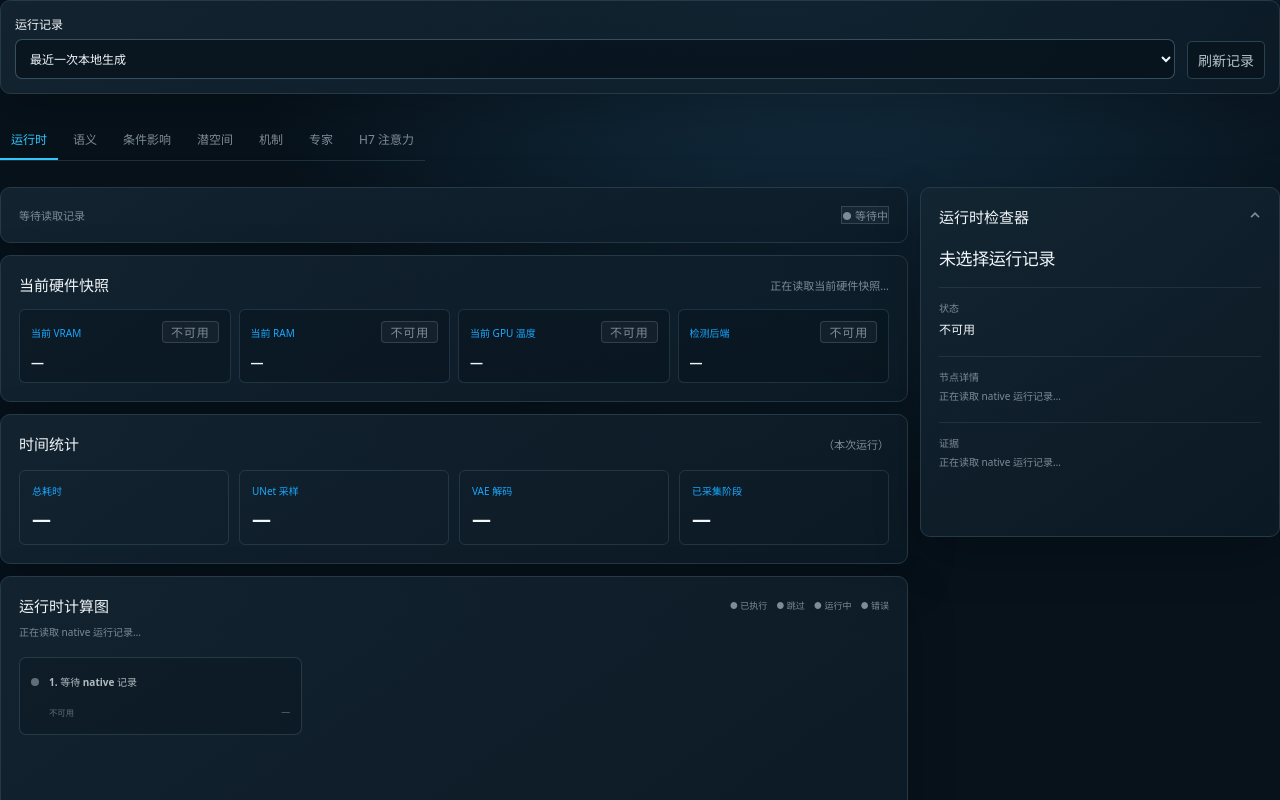
Scenario: measured research panels › clears self maps on run change and ignores a late response from the previous run
Click the tab "H7 注意力" at x=387, y=140, box left=348, top=120, right=425, bottom=160
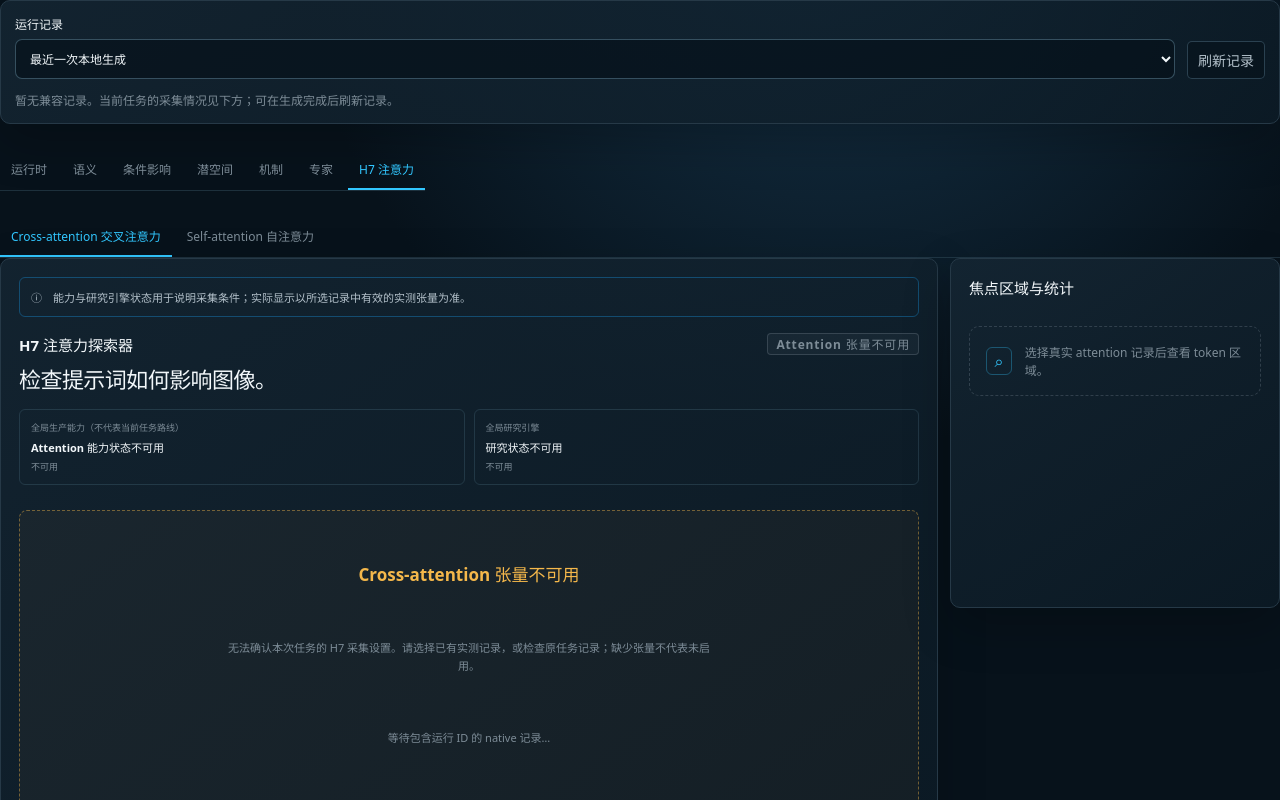
Click the tab "Self-attention 自注意力" at x=250, y=237, box left=176, top=217, right=325, bottom=257
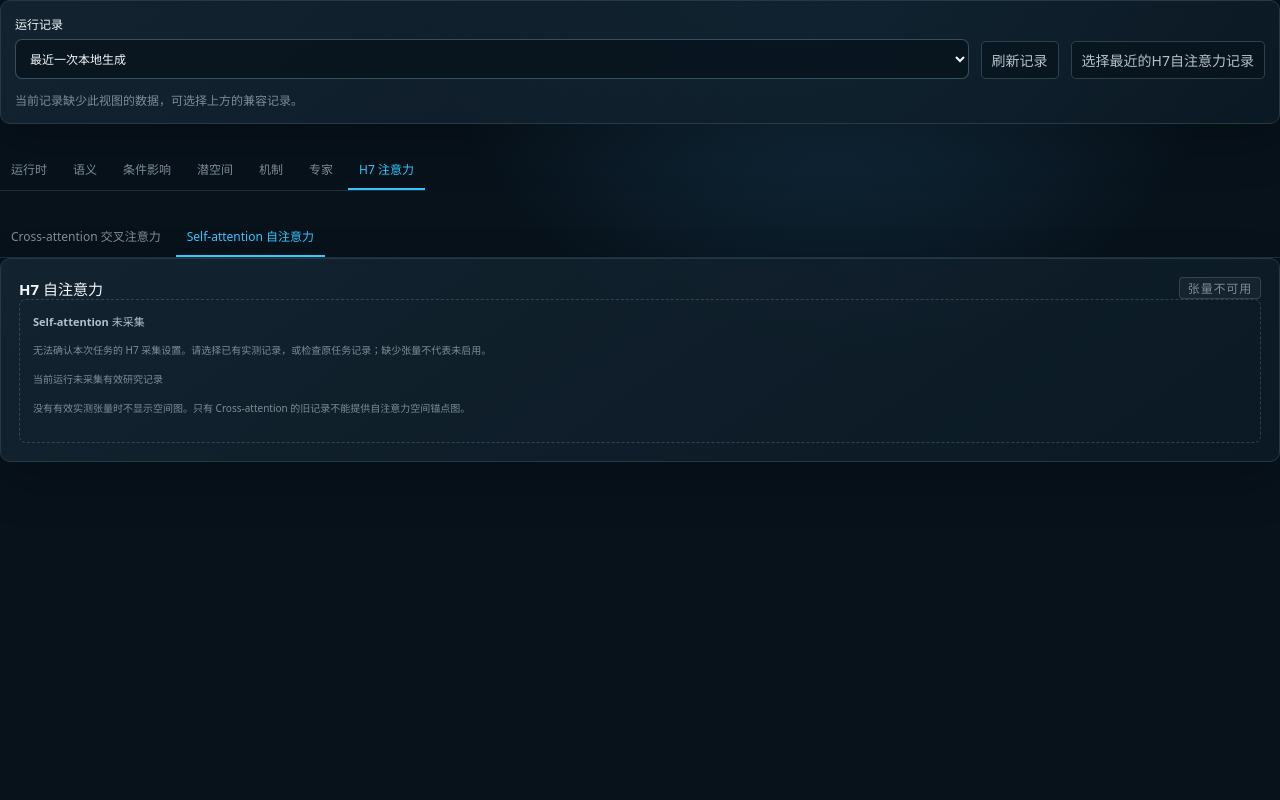
Click the button "选择最近的H7自注意力记录" at x=1168, y=60, box left=1071, top=41, right=1265, bottom=79
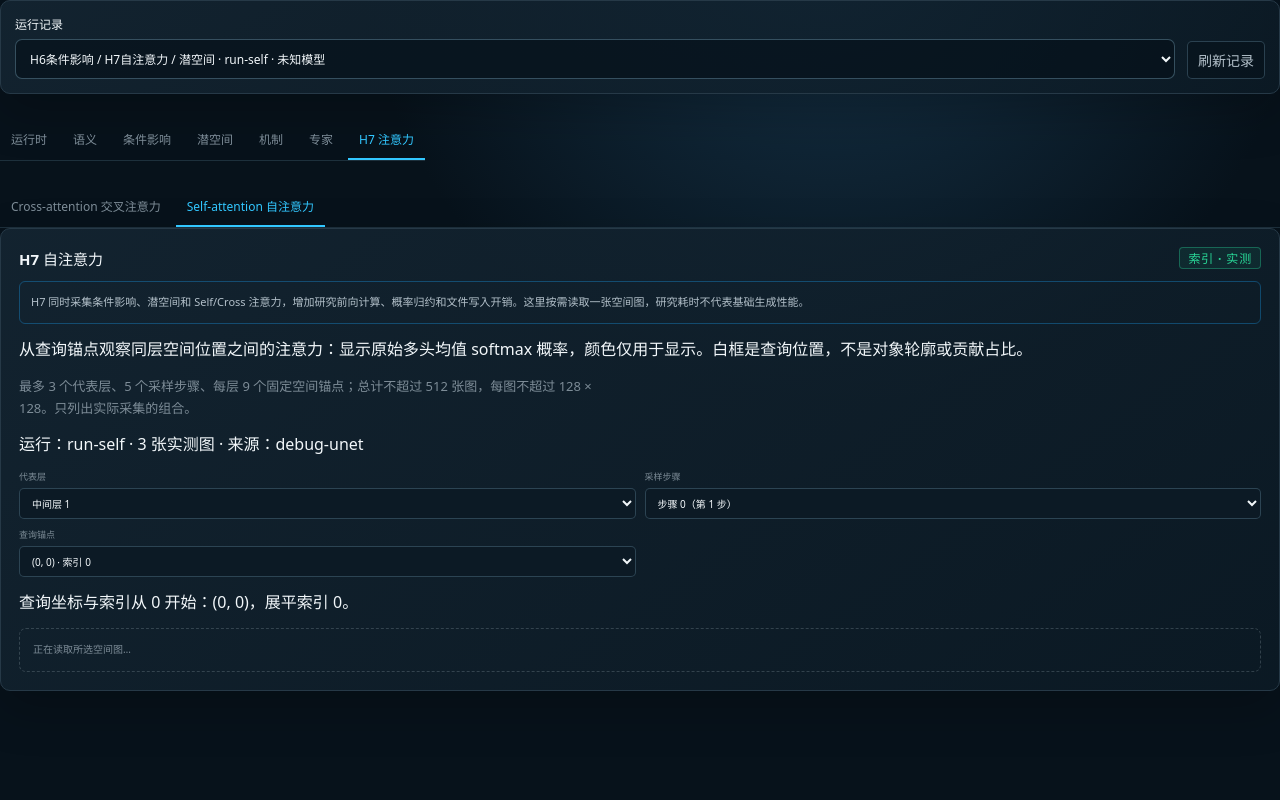
Select "潜空间 · run-basic · 未知模型" in the dropdown named "选择运行记录" at x=595, y=59, box left=15, top=39, right=1175, bottom=79
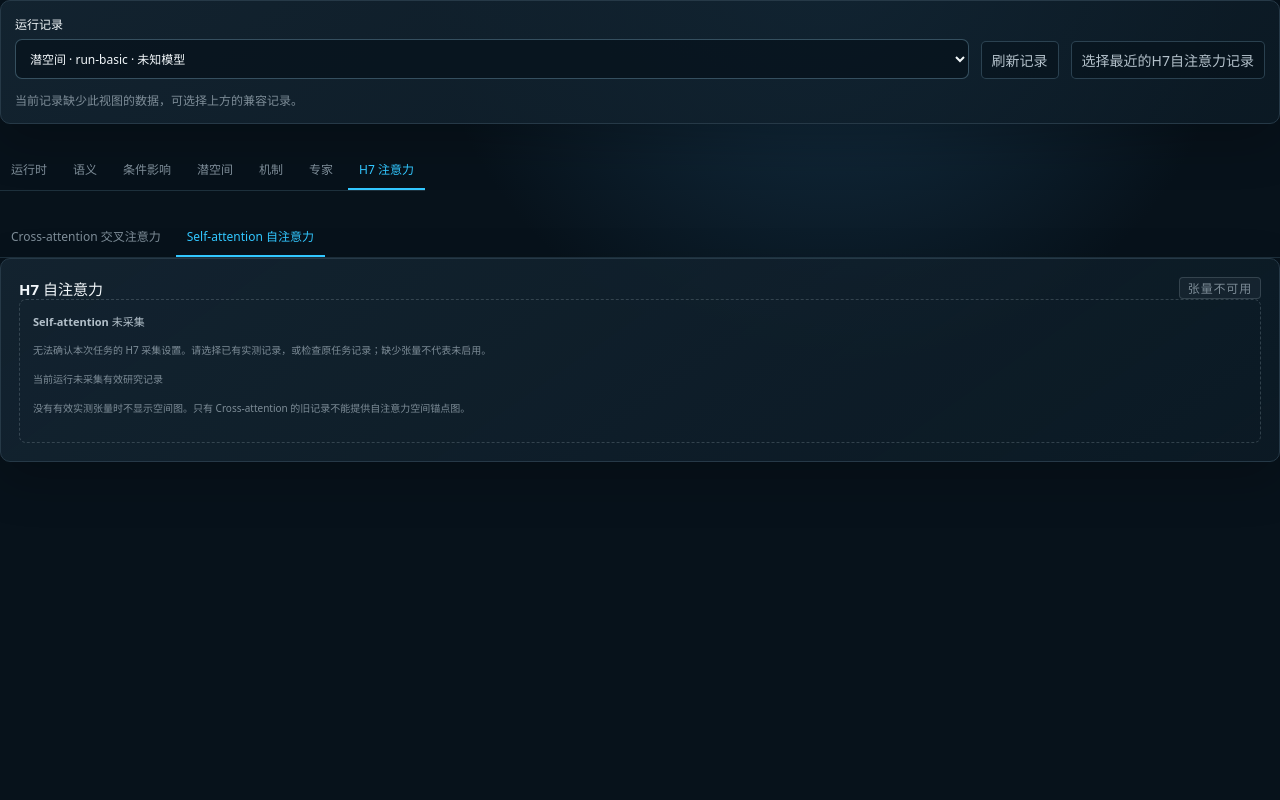
Expected: the text "Self-attention 未采集" is shown, left=33, top=314, right=145, bottom=329
Expected: the text "run-self" is gone
